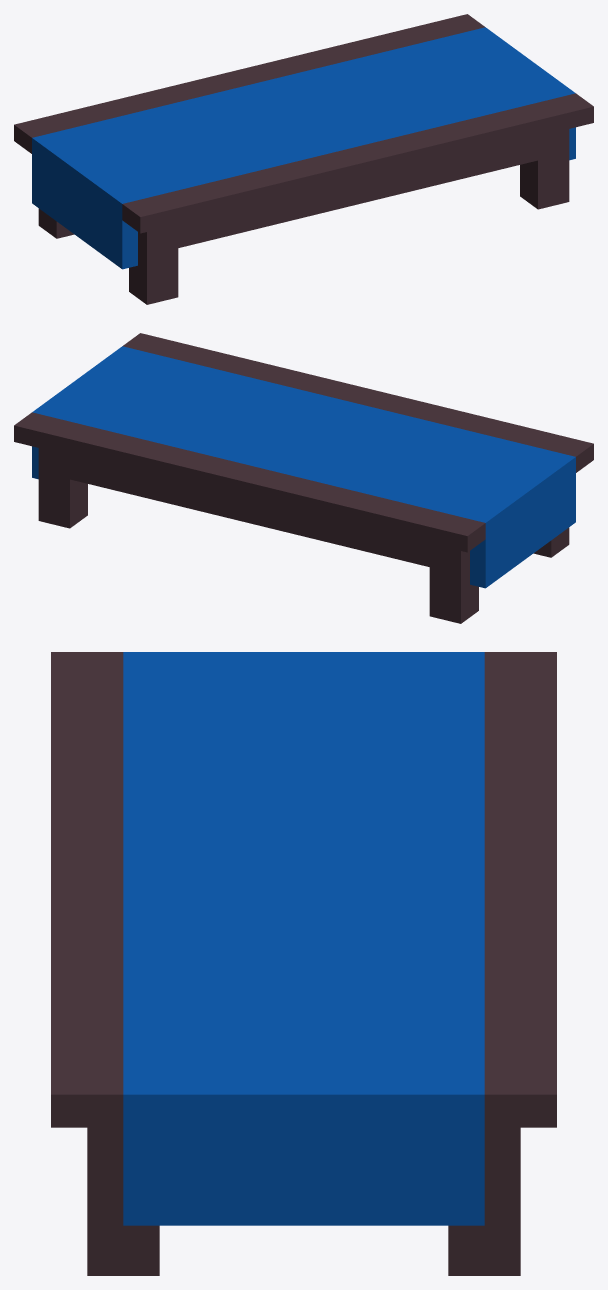
File: large_table_c_blue.obj
3 renders of one model, top to bottom at view 1: azimuth 30°, elevation 25°; view 2: azimuth 150°, elevation 25°; view 3: azimuth 270°, elevation 25°, orthographic. The views are drawn at different scales.
Bounding box in the file's own units: 2.9 × 0.6 × 1.4.
Materials: 1 (1 with a texture image).
